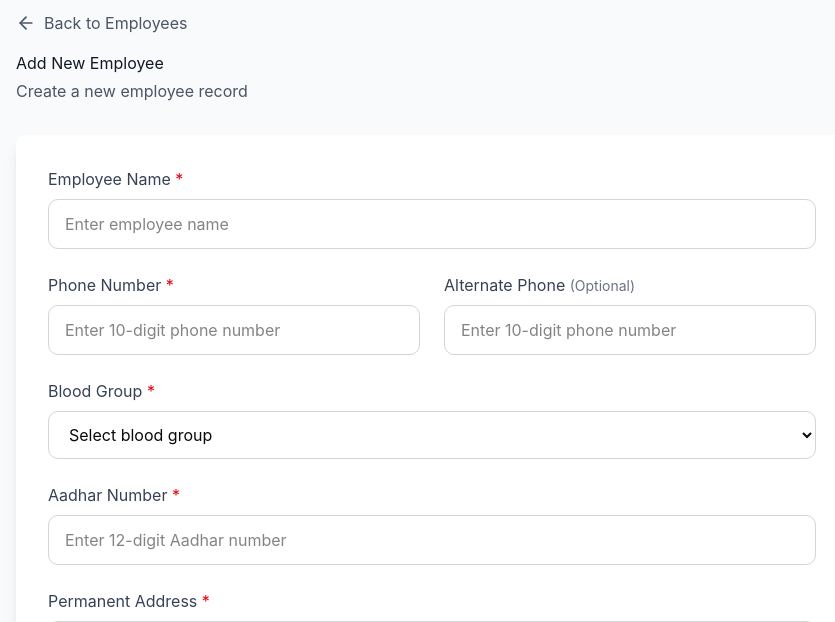
Test: CreateEmployeeScreen › typing restrictions › only accepts digits in the Aadhar number, up to twelve
Type "1234-5678 9012 3456" into the field labelled "Aadhar Number *".
click(432, 540); type("1234-5678 9012 3456")  # box left=48, top=515, right=816, bottom=565
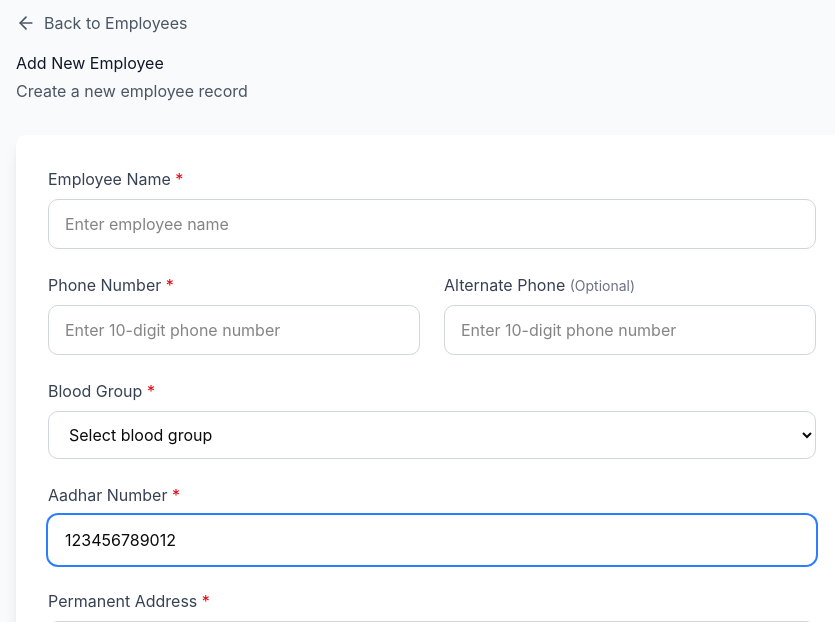
Check: the field labelled "Aadhar Number *" holds "123456789012", box left=48, top=515, right=816, bottom=565
